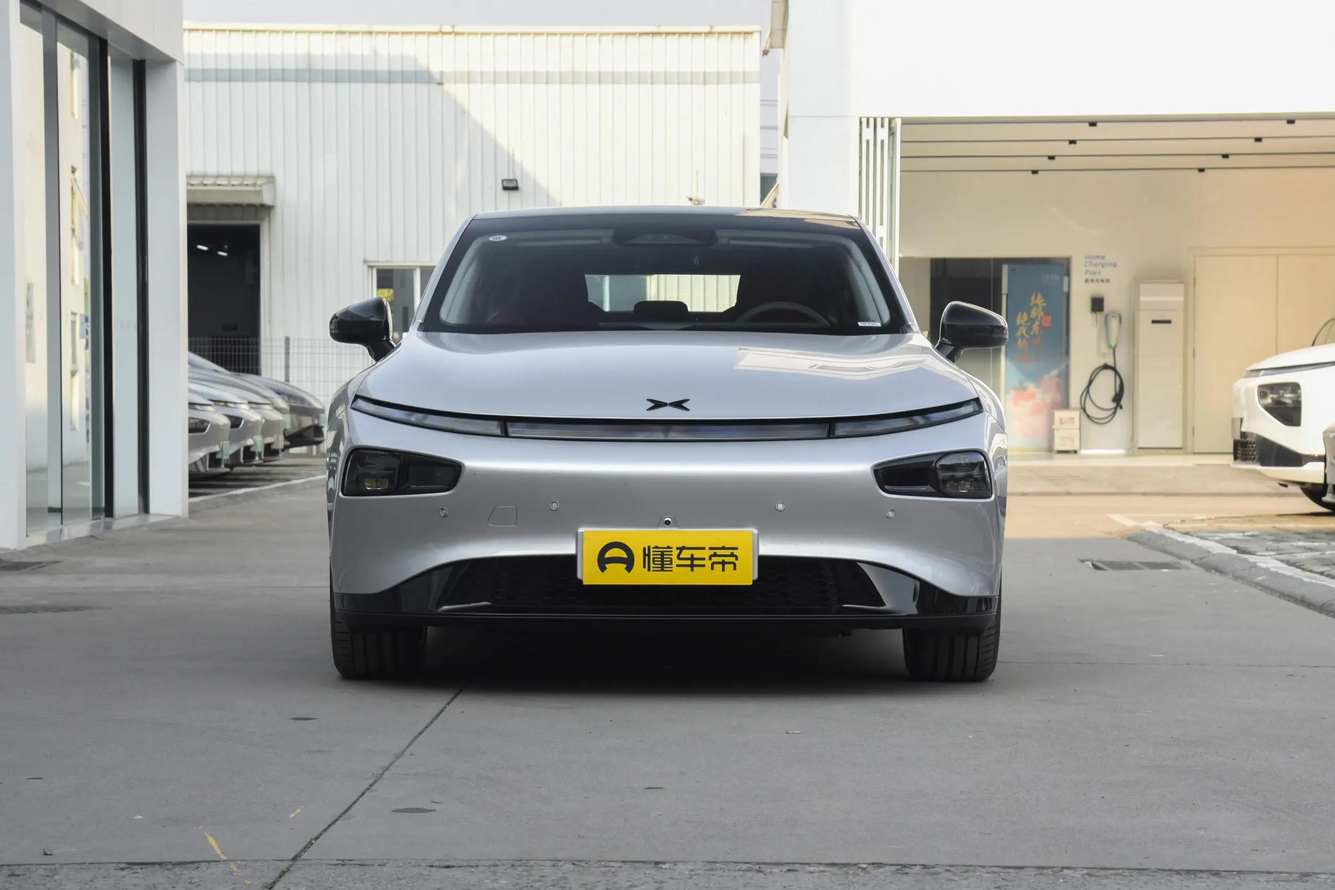XPeng Motors: (646, 398, 690, 411)
